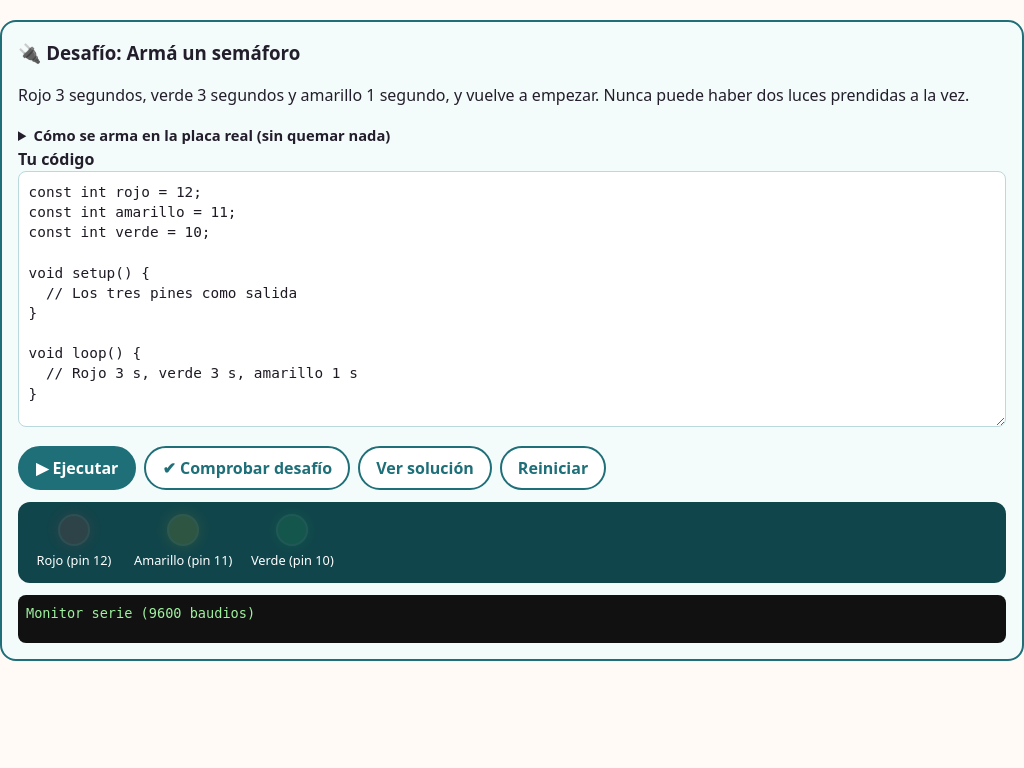
it: con el código inicial no pasa; con la solución, el desafío queda superado
The width and height of the screenshot is (1024, 768).
Click the button "✔ Comprobar desafío".
click(247, 468)  # box [144,446,350,490]
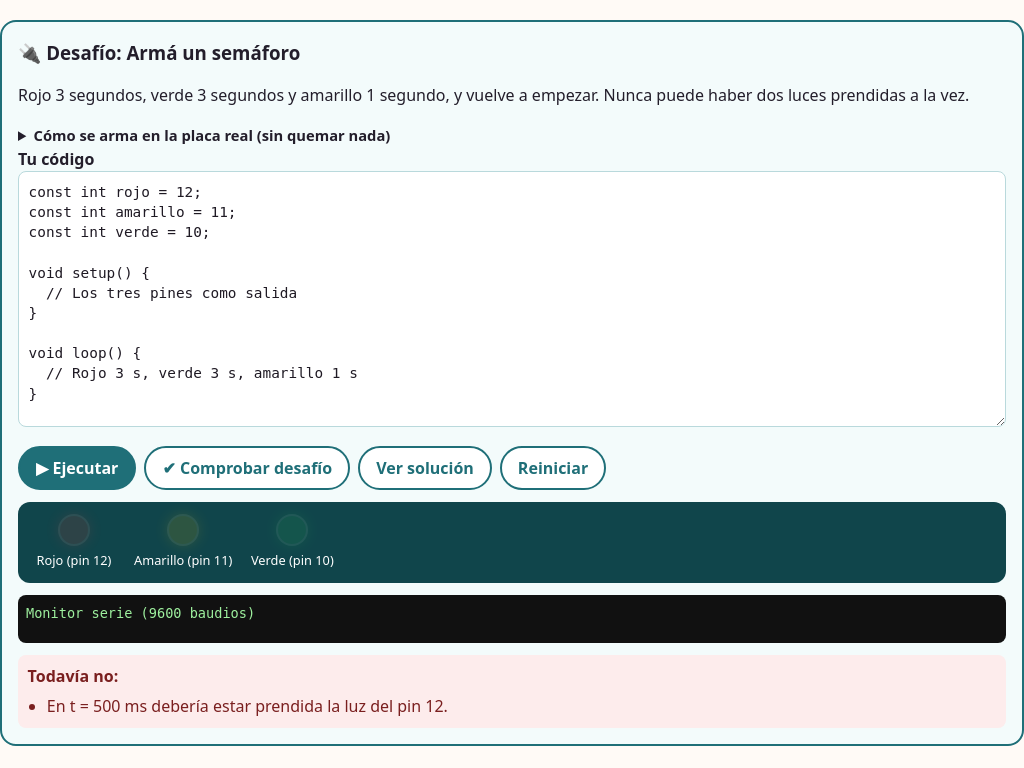
Click the button "Ver solución".
click(425, 468)  # box [358,446,492,490]
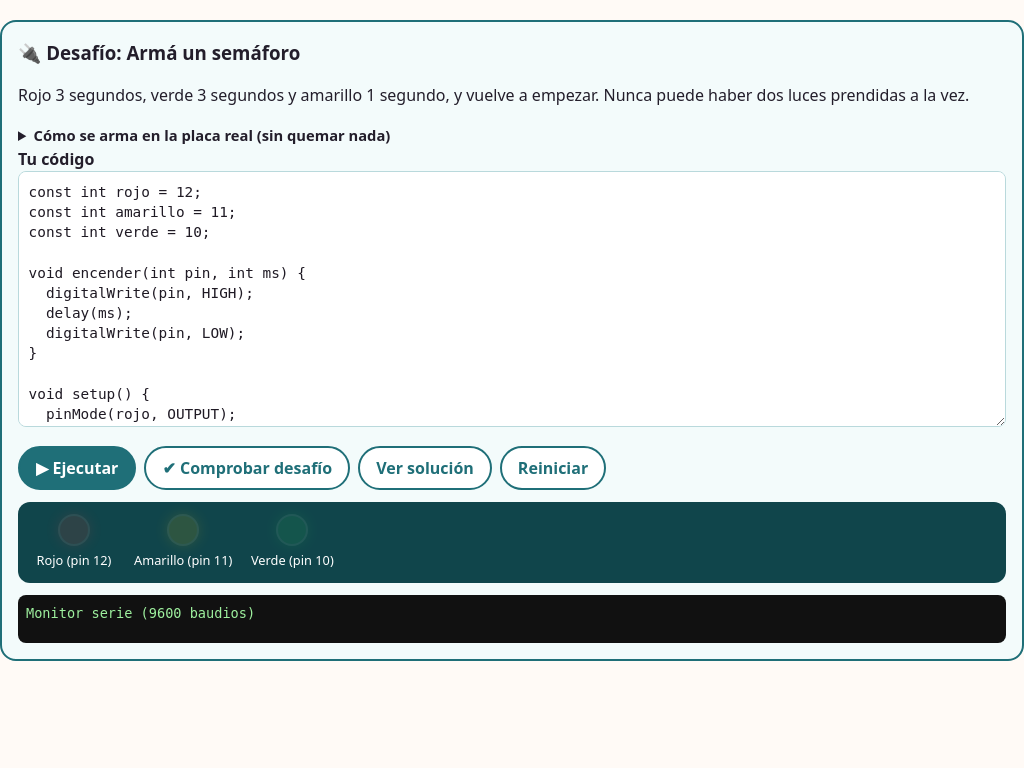
Click the button "✔ Comprobar desafío".
click(247, 468)  # box [144,446,350,490]
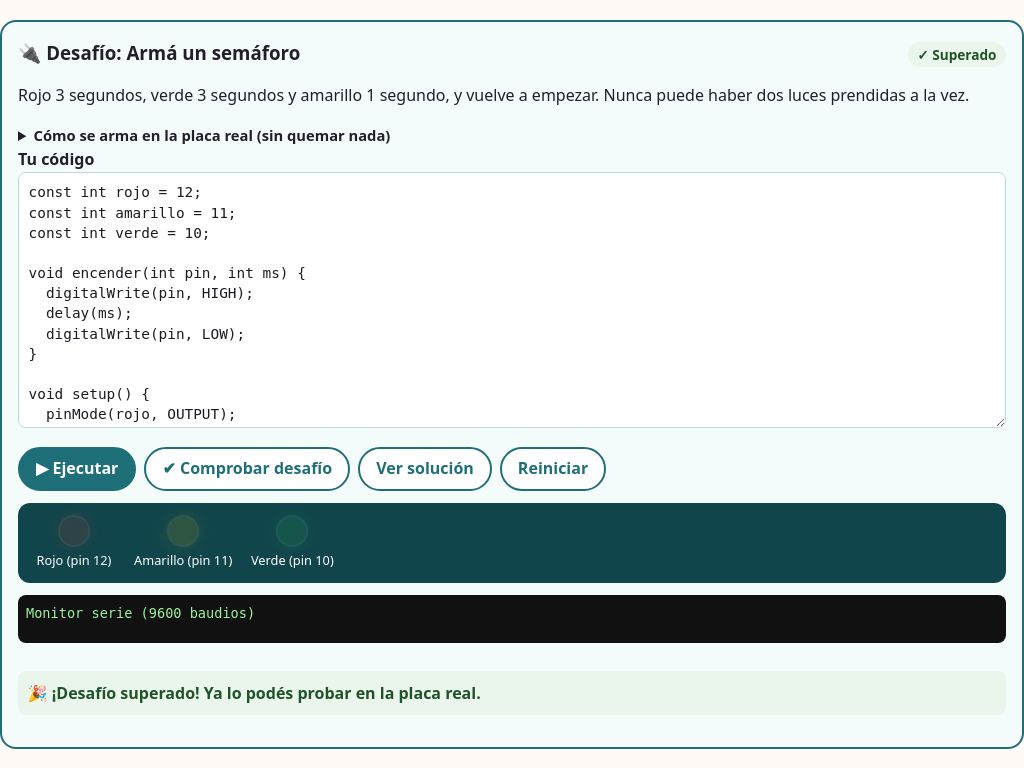
Expected: the text "🎉 ¡Desafío superado! Ya lo podés probar en la placa real." is shown, [18,671,1006,715]
Expected: the text "✓ Superado" is shown, [908,42,1006,67]
